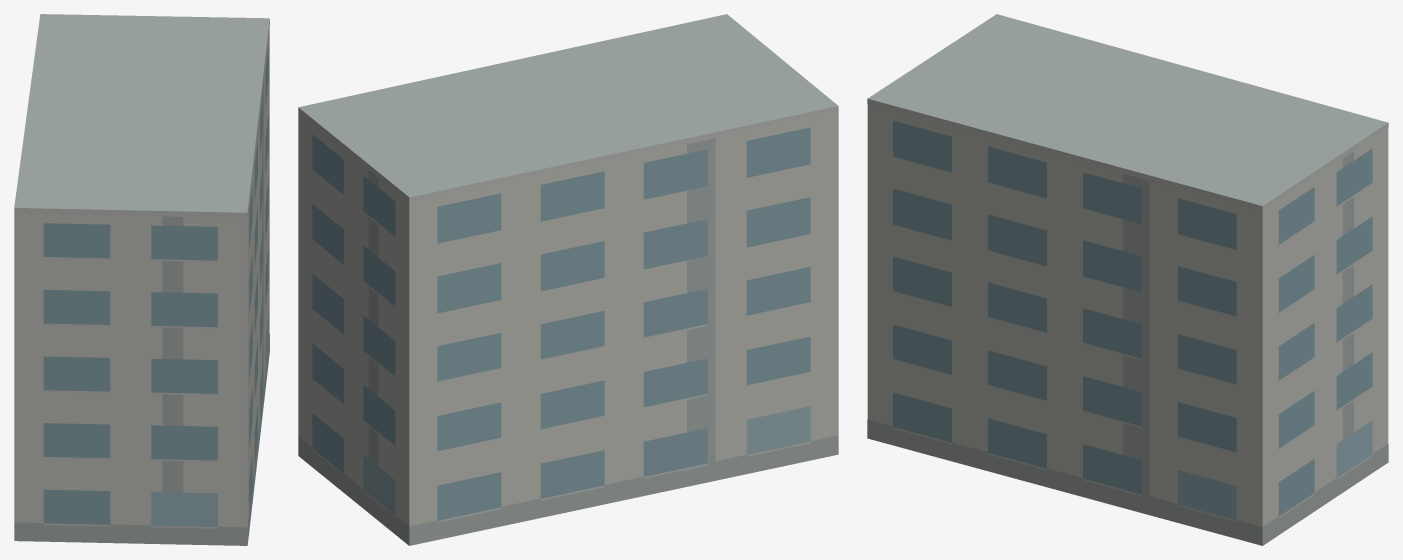
The model's file is survey-upis-32893504.glb.
3 views of the same model, side by side, from view 1: azimuth 30°, elevation 25°; view 2: azimuth 150°, elevation 25°; view 3: azimuth 270°, elevation 25° (orthographic). The views are drawn at different scales.
Parts seen in each view (by area): view 1: survey-upis-32893504.tmp; view 2: survey-upis-32893504.tmp; view 3: survey-upis-32893504.tmp.
Part boxes in pixels (<box>): survey-upis-32893504.tmp: <box>14,14,269,545</box>; survey-upis-32893504.tmp: <box>298,14,838,545</box>; survey-upis-32893504.tmp: <box>867,14,1388,545</box>.
Bounding box in the file's own units: 17.47 × 14.4 × 20.02.
